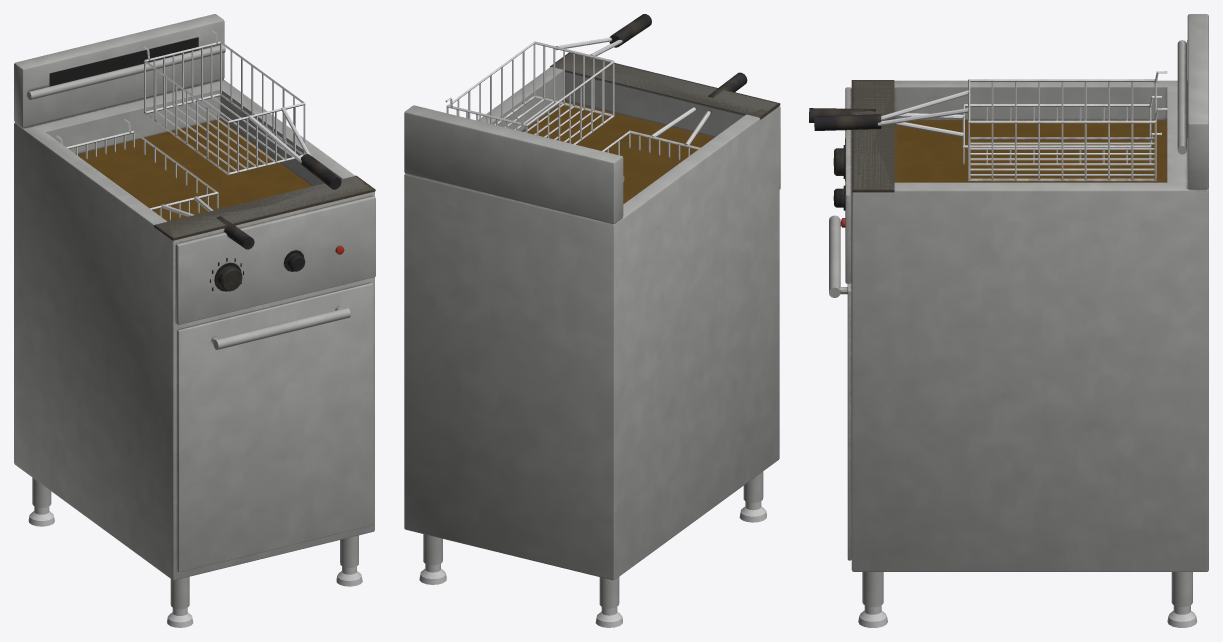
The model's file is fritadeira.glb.
3 views of the same model, side by side, from view 1: azimuth 30°, elevation 25°; view 2: azimuth 150°, elevation 25°; view 3: azimuth 270°, elevation 25° (orthographic). The views are drawn at different scales.
Visible parts, largest first — view 1: fritadeira; view 2: fritadeira; view 3: fritadeira.
Boxes of the visible parts, x1,y1,x2,y2 form: fritadeira: (14, 14, 375, 627); fritadeira: (404, 14, 780, 627); fritadeira: (809, 14, 1208, 627).
Size of the model in its own units: 0.49 by 1.06 by 0.7502.
Materials: 1 (1 with a texture image).
